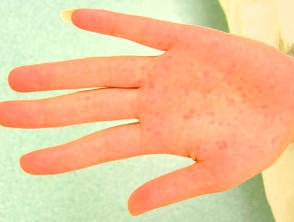SJS-TEN: (110, 13, 294, 193)
